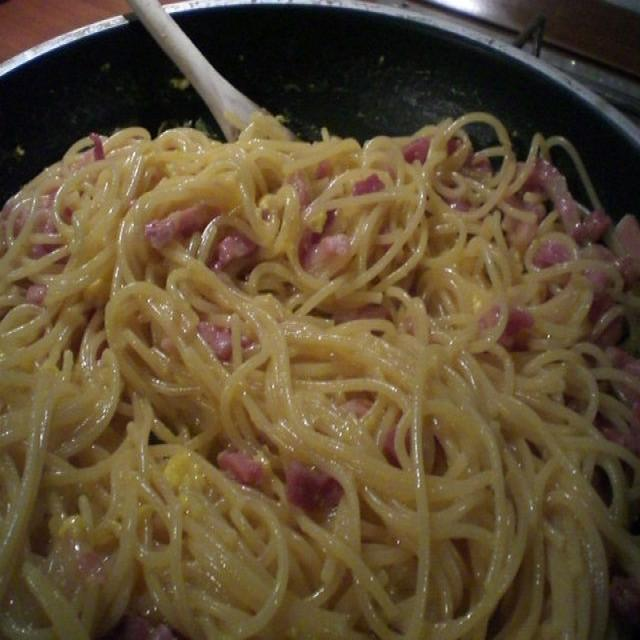Pasta with carbonara sauce: (6, 73, 640, 635)
